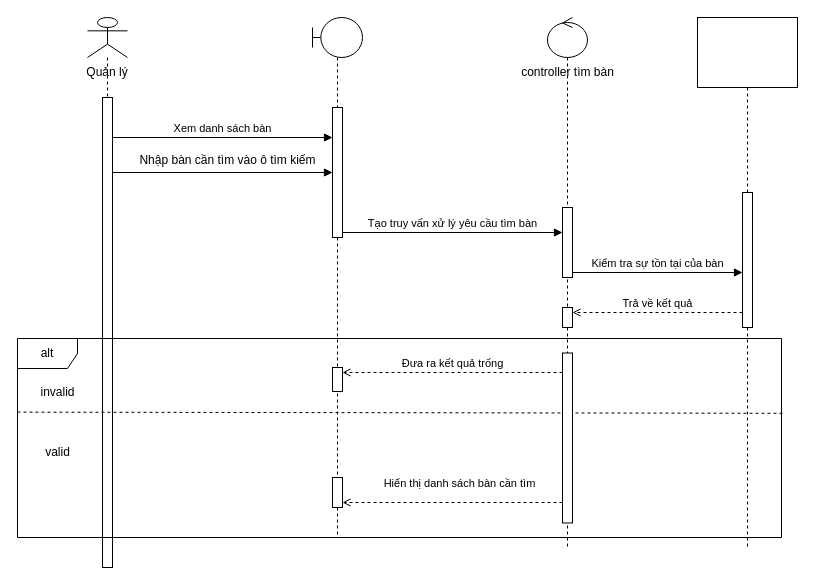
This 815x585 diagram has some shape labels left out. Here are the shapes that lost their labels. From the top down, the box of each, then its label:
(312, 16, 362, 538): view bàn
(696, 16, 798, 548): :Database
